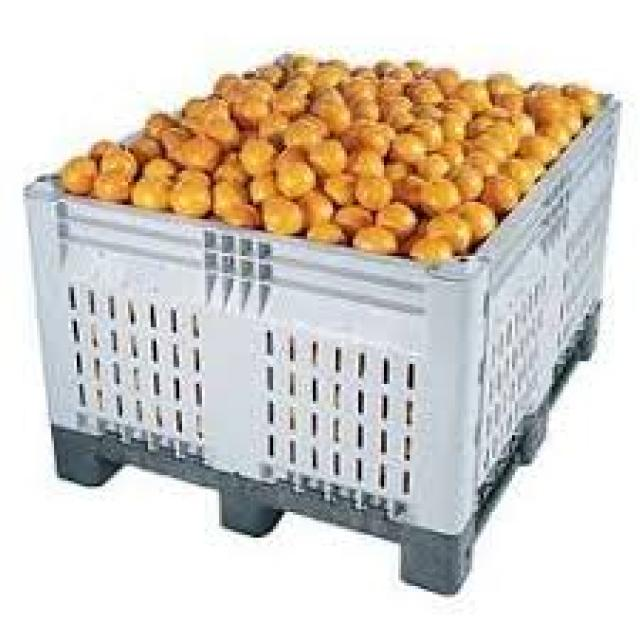basket: (0, 15, 630, 607)
